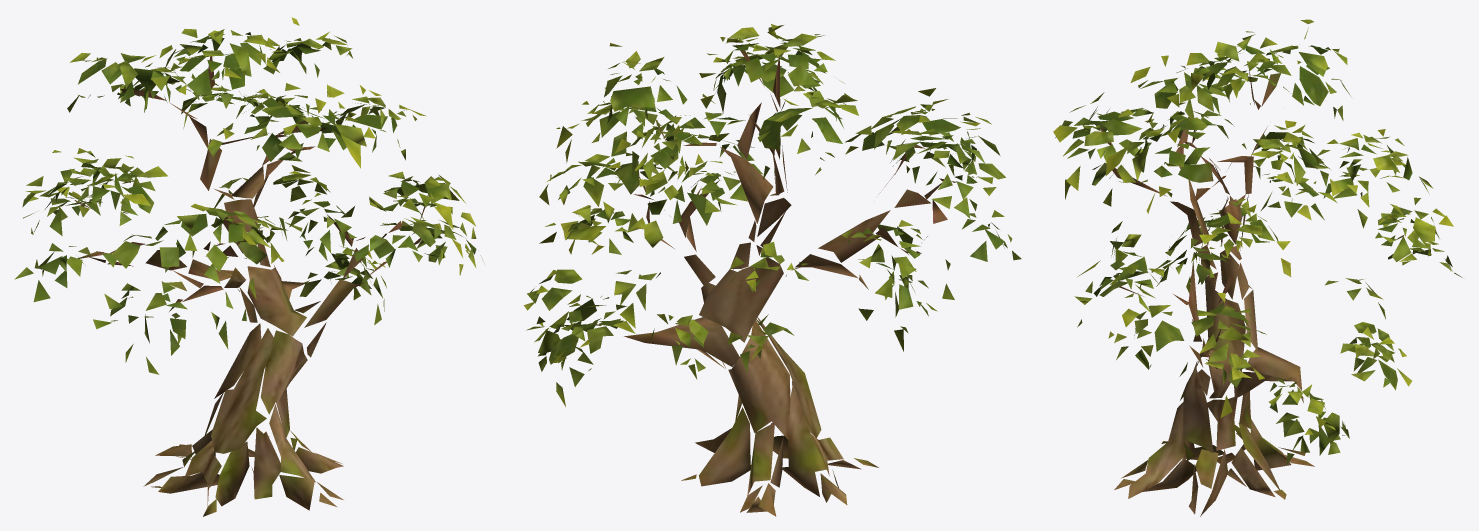
The model's file is tree-mobile-v2.glb.
3 views of the same model, side by side, from view 1: azimuth 30°, elevation 25°; view 2: azimuth 150°, elevation 25°; view 3: azimuth 270°, elevation 25° (orthographic). The views are drawn at different scales.
Visible parts, largest first — view 1: tripo_node_6d22a25d-f581-4f64-9037-c77e1c344d47; view 2: tripo_node_6d22a25d-f581-4f64-9037-c77e1c344d47; view 3: tripo_node_6d22a25d-f581-4f64-9037-c77e1c344d47.
Part boxes in pixels (<box>): tripo_node_6d22a25d-f581-4f64-9037-c77e1c344d47: <box>14,17,482,516</box>; tripo_node_6d22a25d-f581-4f64-9037-c77e1c344d47: <box>523,24,1021,516</box>; tripo_node_6d22a25d-f581-4f64-9037-c77e1c344d47: <box>1053,19,1462,516</box>.
Bounding box in the file's own units: 4.79 × 4.39 × 3.88.
Materials: 1 (1 with a texture image).
